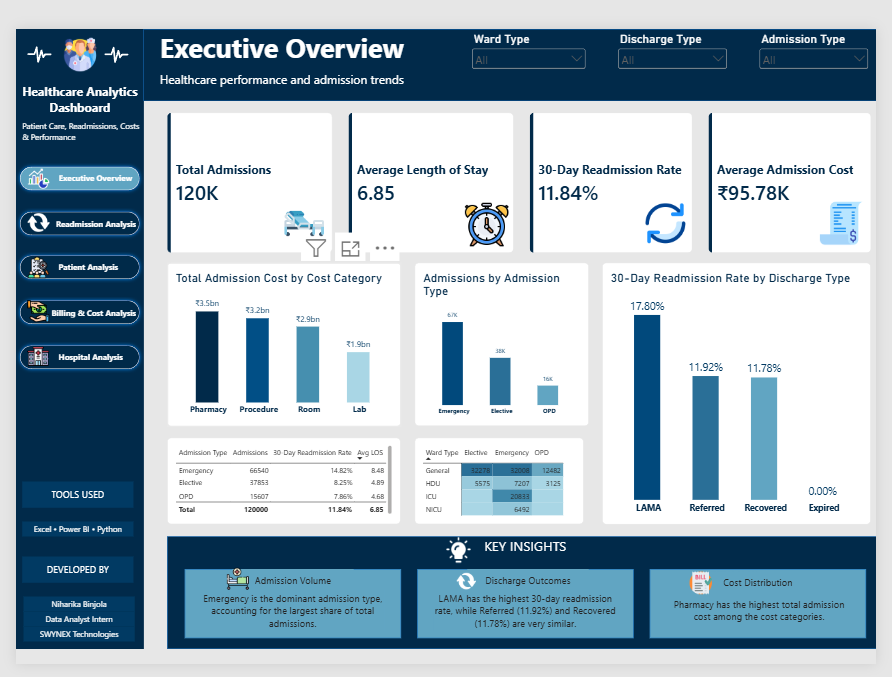

The dashboard page shown, as its layout file describes it:
{"tool":"powerbi","page":{"name":"Executive Overview","canvas":[1720,1270],"ordinal":0},"visuals":[{"type":"cardVisual","fields":{"Data":["CountNonNull(admissions_cleaned.admission_id)"]},"box":[301.9,167.3,330.8,280.8],"z":0},{"type":"cardVisual","fields":{"Data":["Avg(billing_cleaned.total_cost_inr)"]},"box":[1384.6,167.3,325,280.8],"z":1000},{"type":"cardVisual","fields":{"Data":["Avg(admissions_cleaned.los_days)"]},"box":[664.7,167.3,330.8,280.8],"z":2000},{"type":"cardVisual","fields":{"Data":["admissions_cleaned.30 Day Readmission Rate %"]},"box":[1027.6,167.3,325,280.8],"z":3000},{"type":"clusteredColumnChart","title":"Admissions by Admission Type","fields":{"Category":["admissions_cleaned.admit_type"],"Y":["CountNonNull(admissions_cleaned.admission_id)"]},"box":[796.6,467.8,348.3,326.4],"z":4000},{"type":"clusteredColumnChart","title":"30-Day Readmission Rate by Discharge Type","fields":{"Category":["admissions_cleaned.discharge_type"],"Y":["admissions_cleaned.30 Day Readmission Rate %"]},"box":[1172.4,467.8,536.8,523],"z":5000},{"type":"clusteredColumnChart","title":"Total Admission Cost by Cost Category","fields":{"Category":["billing_cleaned.cost_category"],"Y":["Sum(billing_cleaned.total_cost_inr)"]},"box":[301.8,467.3,467.3,327.3],"z":6000},{"type":"tableEx","fields":{"Values":["admissions_cleaned.admit_type","admissions_cleaned.admission_id","admissions_cleaned.30 Day Readmission Rate %","Avg(admissions_cleaned.los_days)"]},"box":[302.3,818.4,466.7,172.4],"z":7000},{"type":"pivotTable","fields":{"Columns":["admissions_cleaned.admit_type"],"Rows":["admissions_cleaned.ward_type"],"Values":["CountNonNull(admissions_cleaned.admission_id)"]},"box":[796.6,818.4,337.9,172.4],"z":11000},{"type":"shape","box":[0,0,255.8,1240.4],"z":12000},{"type":"image","box":[92.4,18.5,71.7,67.4],"z":13000},{"type":"textbox","box":[0,108.7,255.4,73.9],"z":14000},{"type":"image","box":[12,18.5,68.5,67.4],"z":15000},{"type":"image","box":[167.4,18.5,66.3,67.4],"z":16000},{"type":"textbox","box":[12,182.6,243.5,51.1],"z":17000},{"type":"shape","box":[0,268,255,63],"z":18000},{"type":"image","box":[19,278,51,44],"z":19000},{"type":"textbox","box":[62.1,268,192.6,62.9],"z":20000},{"type":"shape","box":[0,356.6,255,63],"z":21000},{"type":"image","box":[20,366,51,44],"z":22000},{"type":"shape","box":[0,445.2,255,63],"z":23000},{"type":"image","box":[19,454.4,50.3,44.2],"z":24000},{"type":"textbox","box":[84.7,445.2,170.6,63.3],"z":25000},{"type":"shape","box":[0,533.8,255,63],"z":26000},{"type":"image","box":[20,543.5,49.5,44],"z":27000},{"type":"shape","box":[0,624,255,63],"z":28000},{"type":"image","box":[19.3,633.1,49.4,44],"z":29000},{"type":"textbox","box":[84.7,623.9,169.9,61.7],"z":30000},{"type":"shape","box":[255.8,0,1476.9,144.2],"z":31000},{"type":"textbox","box":[286.6,0,589.6,71.6],"z":32000},{"type":"textbox","box":[286.6,85.1,589.6,47.8],"z":32250},{"type":"slicer","fields":{"Values":["billing_cleaned.Discharge Type"]},"box":[1200,3.8,226.9,80.8],"z":32500},{"type":"slicer","fields":{"Values":["billing_cleaned.Ward Type"]},"box":[907.7,3.8,236.5,86.5],"z":32625},{"type":"slicer","fields":{"Values":["billing_cleaned.Admission Type"]},"box":[1482.7,5.8,226.9,80.8],"z":32750},{"type":"shape","box":[301.9,1015.4,1430.8,225],"z":32751},{"type":"shape","box":[336.5,1078.8,432.7,138.5],"z":32752},{"type":"shape","box":[1267.3,1078.8,432.7,138.5],"z":32753},{"type":"shape","box":[801.9,1078.8,432.7,138.5],"z":32754},{"type":"shape","box":[432.7,1078.8,242.9,44.6],"z":32755},{"type":"shape","box":[1363.5,1084.6,242.9,44.6],"z":32756},{"type":"shape","box":[901.9,1078.8,242.9,44.6],"z":32757},{"type":"shape","box":[369.2,1123.1,367.3,80.8],"z":32758},{"type":"shape","box":[834.6,1123.1,367.3,80.8],"z":32759},{"type":"shape","box":[1301.9,1123.1,367.3,80.8],"z":32760},{"type":"textbox","box":[801.9,1015.4,432.7,63.5],"z":32761},{"type":"image","box":[405.3,1078.7,77.3,44],"z":32762},{"type":"image","box":[878.7,1084,46.7,38.7],"z":32763},{"type":"image","box":[1338.7,1084,64,45.3],"z":32764},{"type":"image","box":[834.6,1015.4,100,53.8],"z":32765},{"type":"image","box":[520,344,112.5,87.5],"z":32766},{"type":"image","box":[1596,344,112.5,87.5],"z":32767},{"type":"image","box":[1241.3,344,112.5,87.5],"z":32768},{"type":"image","box":[884,346.7,112.5,87.5],"z":32769},{"type":"shape","box":[12.5,985,222.5,30],"z":32771},{"type":"shape","box":[15,1193.8,222.5,30],"z":32773},{"type":"shape","box":[15,1163.8,222.5,30],"z":32774},{"type":"shape","box":[15,1133.8,222.5,30],"z":32775},{"type":"shape","box":[12.5,1055,222.5,52.5],"z":32776},{"type":"shape","box":[12.5,905,222.5,52.5],"z":32777}]}

Visuals, with their boxes in screenshot pixels (x1, y1, x2, y2), scaled from the page's 1720x1270 canvas onto the 892x677 screenshot:
cardVisual - CountNonNull(admissions_cleaned.admission_id): 157 89 328 239
cardVisual - Avg(billing_cleaned.total_cost_inr): 718 89 887 239
cardVisual - Avg(admissions_cleaned.los_days): 345 89 516 239
cardVisual - admissions_cleaned.30 Day Readmission Rate %: 533 89 701 239
"Admissions by Admission Type" clusteredColumnChart: 413 249 594 423
"30-Day Readmission Rate by Discharge Type" clusteredColumnChart: 608 249 886 528
"Total Admission Cost by Cost Category" clusteredColumnChart: 157 249 399 424
tableEx - admissions_cleaned.admit_type x admissions_cleaned.admission_id: 157 436 399 528
pivotTable - admissions_cleaned.admit_type x admissions_cleaned.ward_type: 413 436 588 528
shape: 0 0 133 661
image: 48 10 85 46
textbox: 0 58 132 97
image: 6 10 42 46
image: 87 10 121 46
textbox: 6 97 133 125
shape: 0 143 132 176
image: 10 148 36 172
textbox: 32 143 132 176
shape: 0 190 132 224
image: 10 195 37 219
shape: 0 237 132 271
image: 10 242 36 266
textbox: 44 237 132 271
shape: 0 285 132 318
image: 10 290 36 313
shape: 0 333 132 366
image: 10 337 36 361
textbox: 44 333 132 365
shape: 133 0 891 77
textbox: 149 0 454 38
textbox: 149 45 454 71
slicer - billing_cleaned.Discharge Type: 622 2 740 45
slicer - billing_cleaned.Ward Type: 471 2 593 48
slicer - billing_cleaned.Admission Type: 769 3 887 46
shape: 157 541 891 661
shape: 175 575 399 649
shape: 657 575 882 649
shape: 416 575 640 649
shape: 224 575 350 599
shape: 707 578 833 602
shape: 468 575 594 599
shape: 191 599 382 642
shape: 433 599 623 642
shape: 675 599 866 642
textbox: 416 541 640 575
image: 210 575 250 598
image: 456 578 480 598
image: 694 578 727 602
image: 433 541 485 570
image: 270 183 328 230
image: 828 183 886 230
image: 644 183 702 230
image: 458 185 517 231
shape: 6 525 122 541
shape: 8 636 123 652
shape: 8 620 123 636
shape: 8 604 123 620
shape: 6 562 122 590
shape: 6 482 122 510
